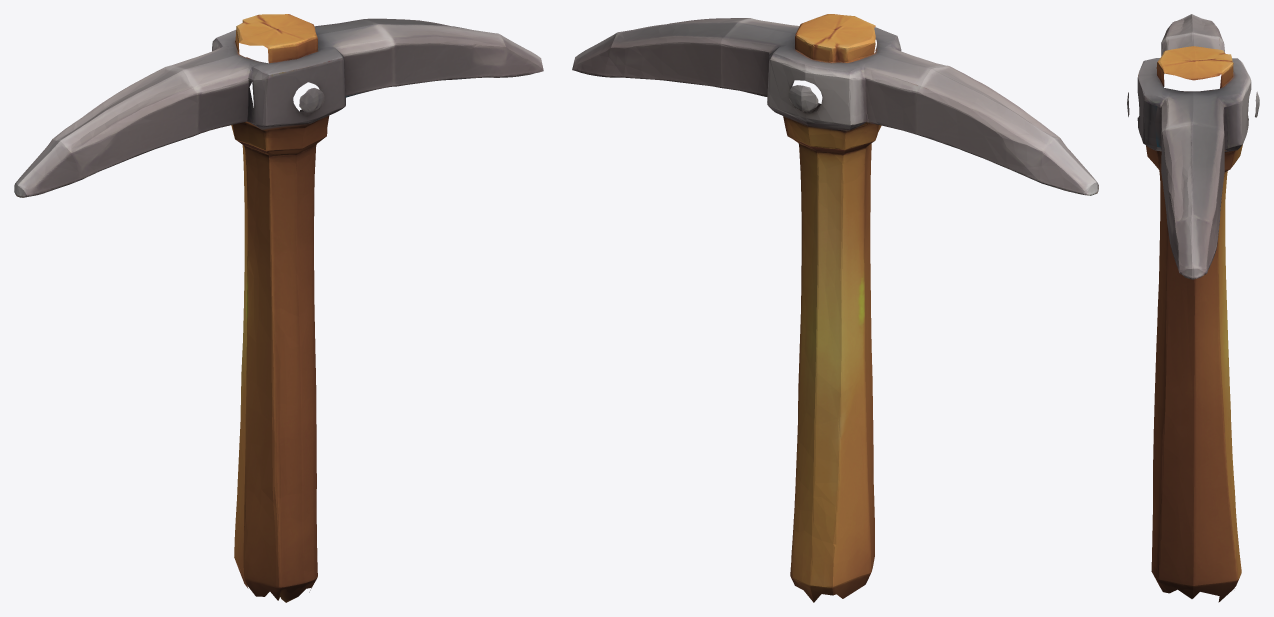
Rendered from pico_1.glb.
The picture shows the model from 3 angles, left to right: view 1: azimuth 30°, elevation 25°; view 2: azimuth 150°, elevation 25°; view 3: azimuth 270°, elevation 25°; orthographic projection. The views are drawn at different scales.
Parts seen in each view (by area): view 1: geometry_0; view 2: geometry_0; view 3: geometry_0.
Boxes of the visible parts, x1,y1,x2,y2 form: geometry_0: (14, 14, 543, 602); geometry_0: (572, 14, 1098, 602); geometry_0: (1127, 14, 1259, 602).
Size of the model in its own units: 0.8157 by 0.8368 by 0.1887.
1 material, 1 textured.
